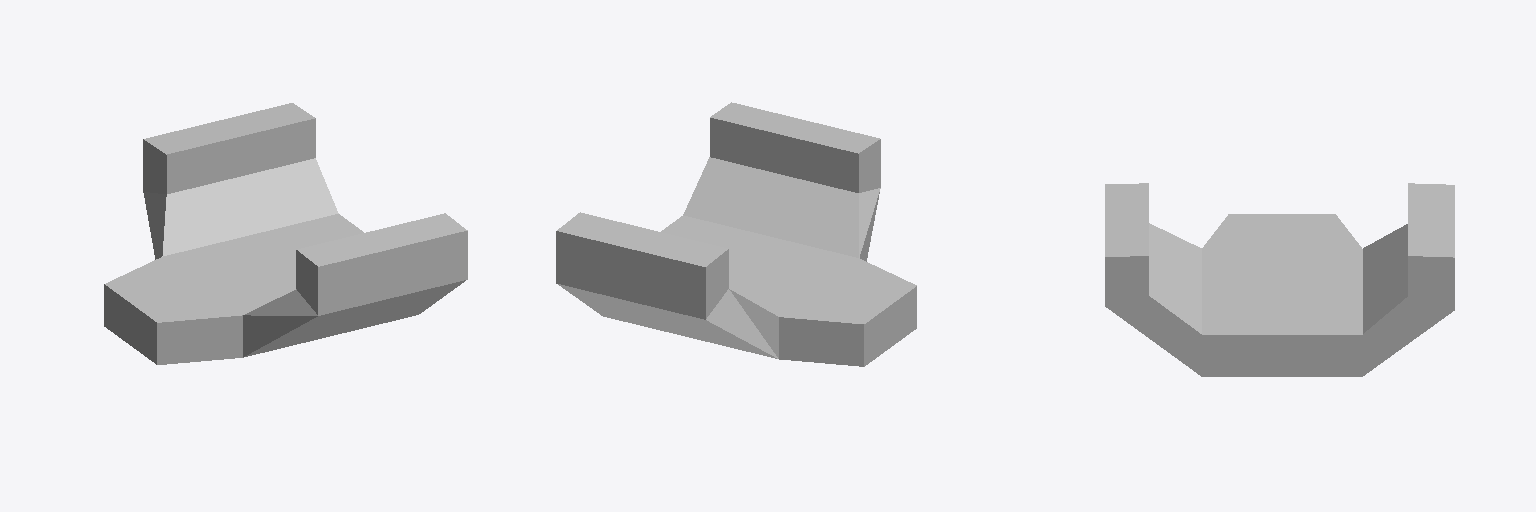
File: Catwalk7.obj
The picture shows the model from 3 angles: view 1: azimuth 30°, elevation 25°; view 2: azimuth 150°, elevation 25°; view 3: azimuth 270°, elevation 25°; orthographic projection.
Visible parts, largest first — view 1: Catwalk7; view 2: Catwalk7; view 3: Catwalk7.
Boxes of the visible parts, box(x1,y1,x2,y2) form: Catwalk7: box(104, 103, 467, 364); Catwalk7: box(556, 102, 916, 366); Catwalk7: box(1105, 183, 1454, 376).
Bounding box in the file's own units: 8.09 × 3.77 × 9.89.